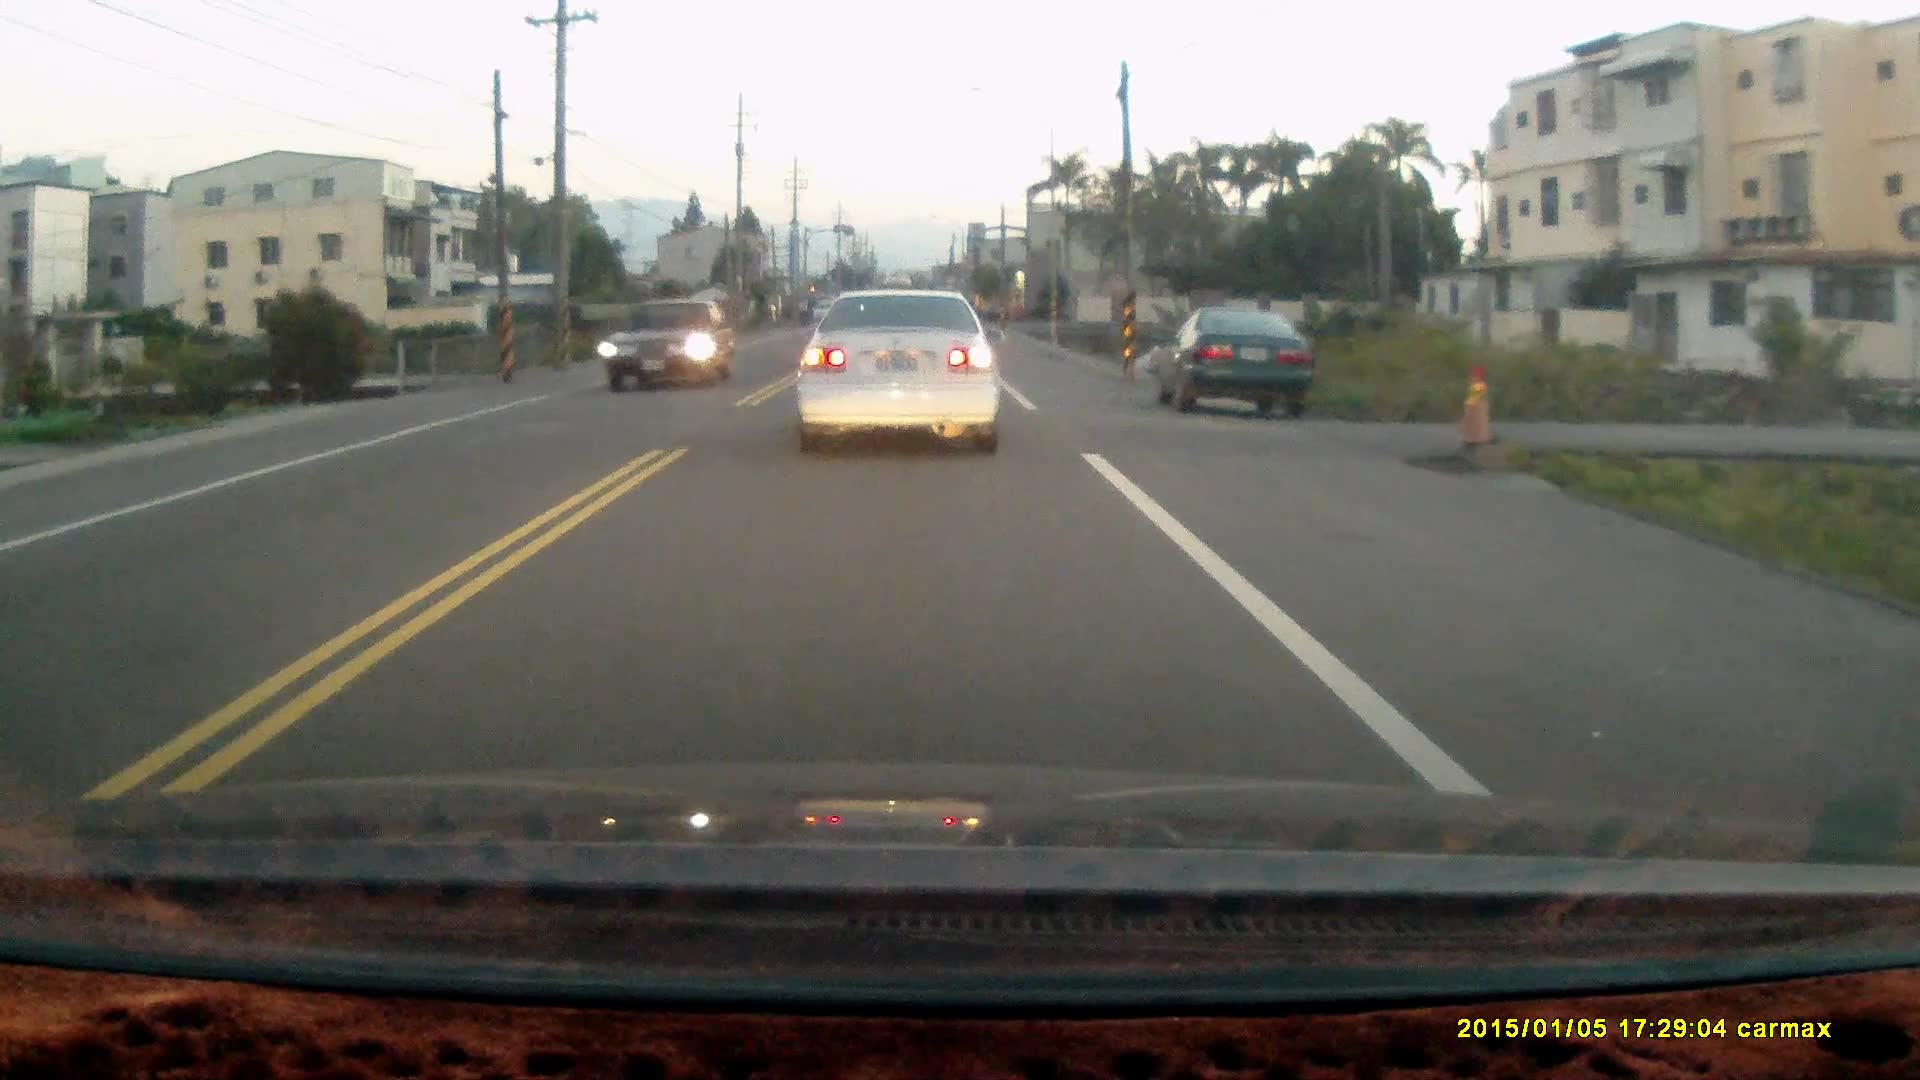vehicle: (790, 284, 1006, 452), (1164, 301, 1321, 415), (603, 295, 731, 390)
